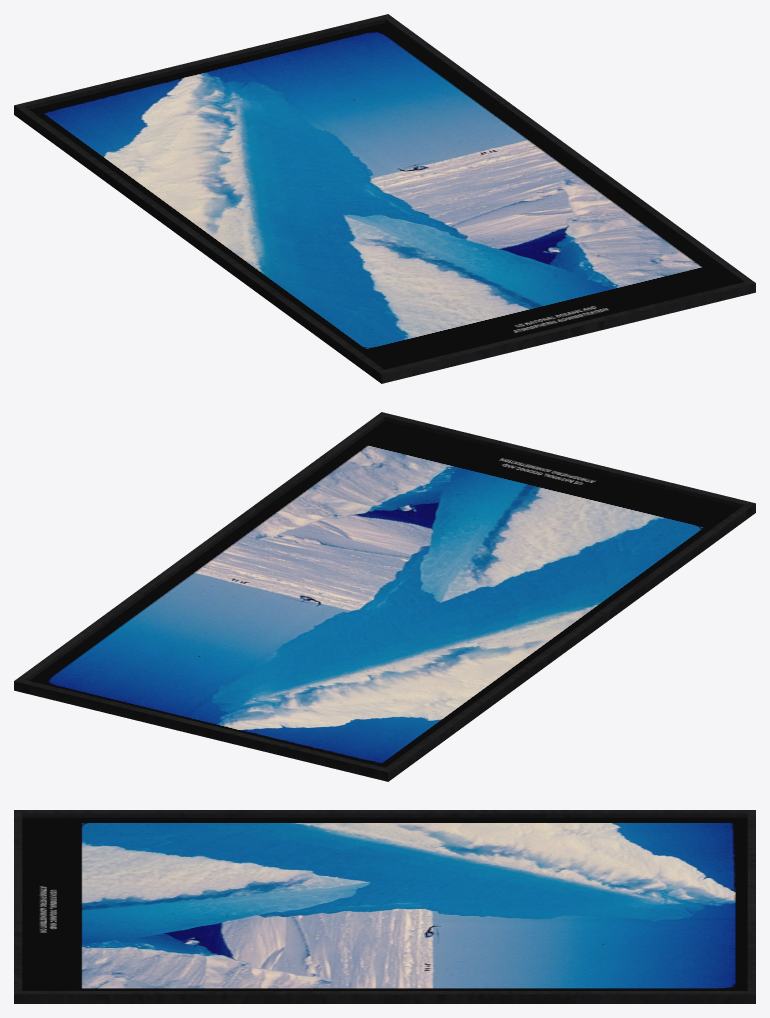
Rendered from poster_science03.dae.
3 views of the same model, one above another, from view 1: azimuth 30°, elevation 25°; view 2: azimuth 150°, elevation 25°; view 3: azimuth 270°, elevation 25° (orthographic).
Parts seen in each view (by area): view 1: polySurface245; view 2: polySurface245; view 3: polySurface245.
Boxes of the visible parts, x1=… form: polySurface245: x1=14, y1=14, x2=755, y2=383; polySurface245: x1=14, y1=412, x2=755, y2=781; polySurface245: x1=14, y1=810, x2=755, y2=1003.
Bounding box in the file's own units: 59.75 × 1.44 × 102.
